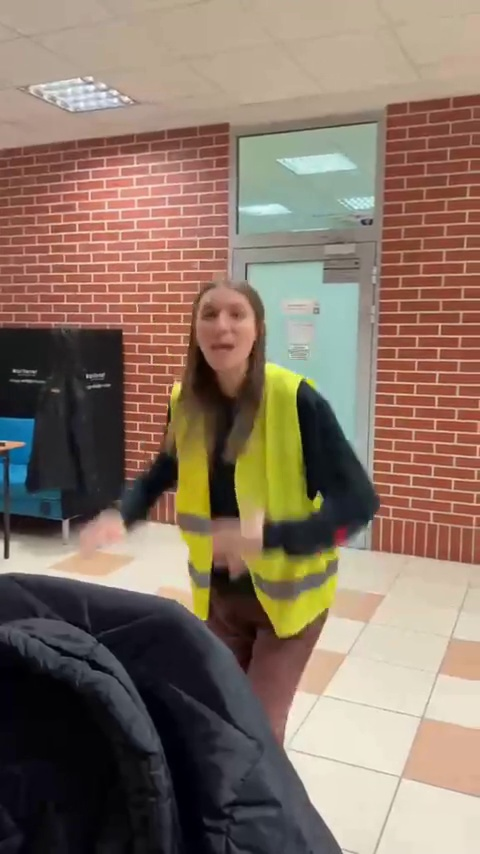vest: (139, 270, 392, 712)
